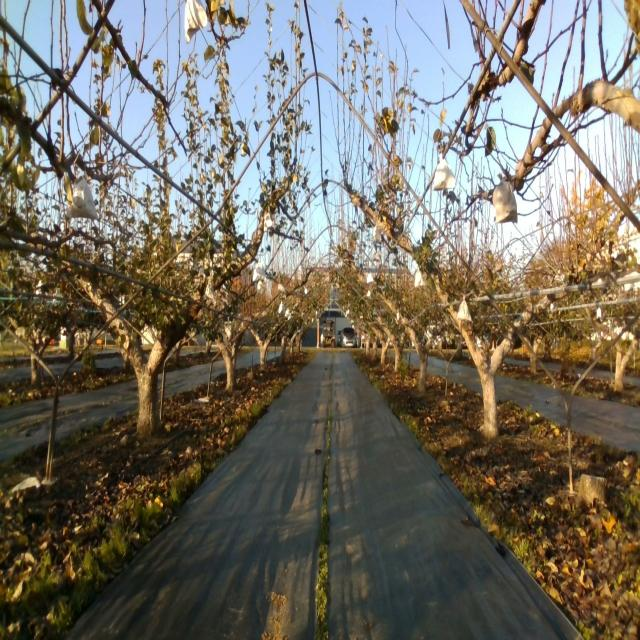pearbags: (62, 169, 101, 219), (492, 173, 518, 223), (434, 150, 456, 191), (456, 295, 473, 321), (252, 257, 267, 283), (204, 278, 217, 302), (263, 209, 274, 231), (414, 268, 426, 288), (372, 223, 382, 245)
